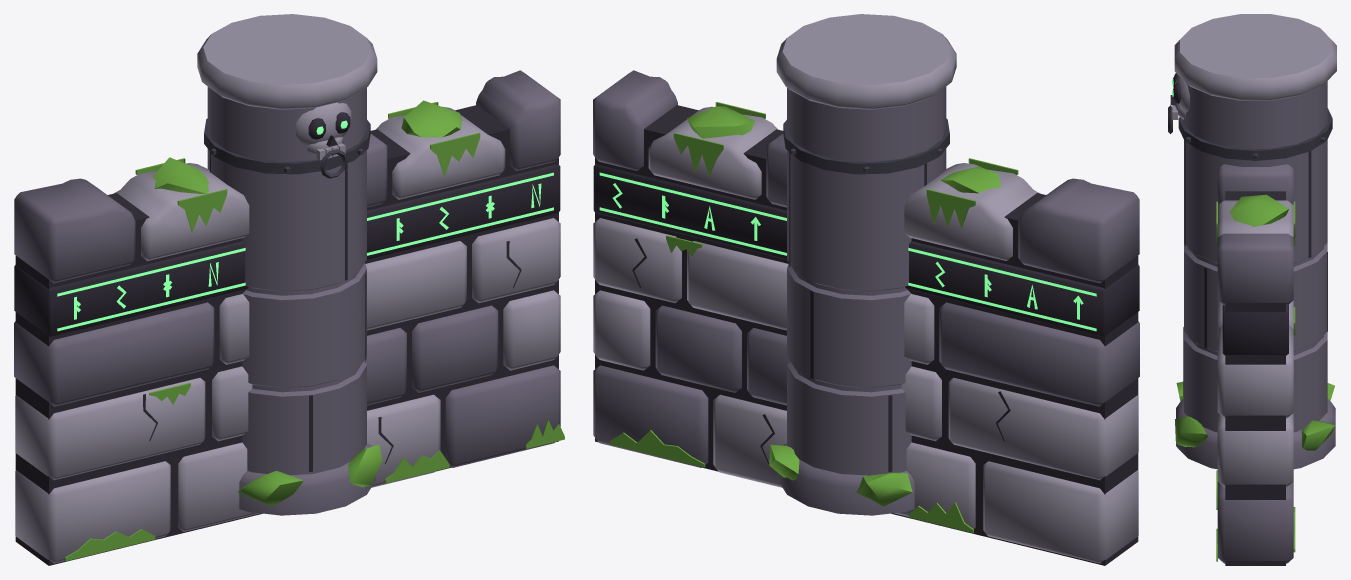
Rendered from swing_wall.glb.
3 renders of one model, left to right at view 1: azimuth 30°, elevation 25°; view 2: azimuth 150°, elevation 25°; view 3: azimuth 270°, elevation 25°, orthographic. The views are drawn at different scales.
Visible parts, largest first — view 1: body, pillar; view 2: body, pillar; view 3: pillar, body.
Boxes of the visible parts, box(x1,y1,x2,y2) form: body: box(14, 70, 564, 565); pillar: box(197, 14, 382, 515); body: box(593, 70, 1139, 565); pillar: box(769, 14, 956, 515); pillar: box(1168, 14, 1336, 469); body: box(1216, 164, 1295, 565).
Size of the model in its own units: 2 by 1.65 by 0.6221.
